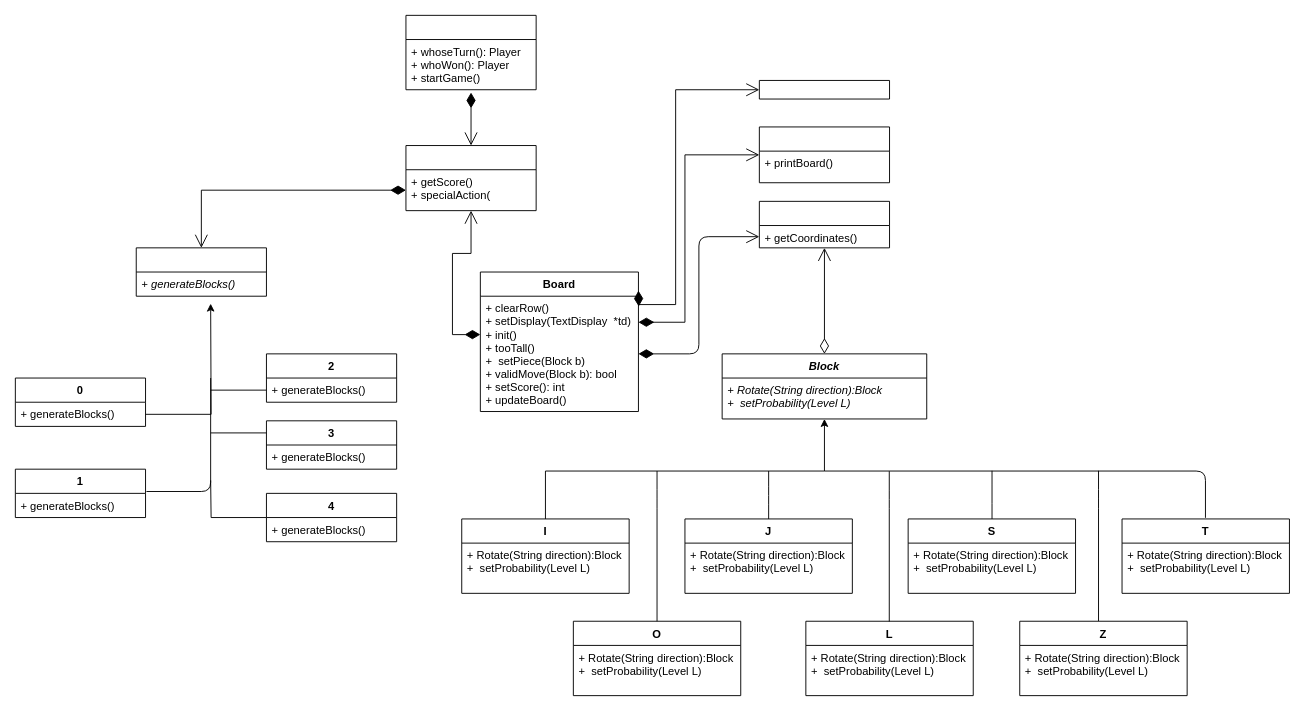
The diagram is 1305 pixels wide and 711 high, and some of its shapes have lost their labels. Here are the shapes that lost their labels. From the top down, the box of each, then its label:
(405, 14, 536, 90): Interface
(758, 80, 890, 99): Graphics
(758, 126, 890, 183): TextDisplay
(405, 145, 536, 211): Players
(758, 200, 890, 248): Cell
(135, 247, 266, 296): Levels
